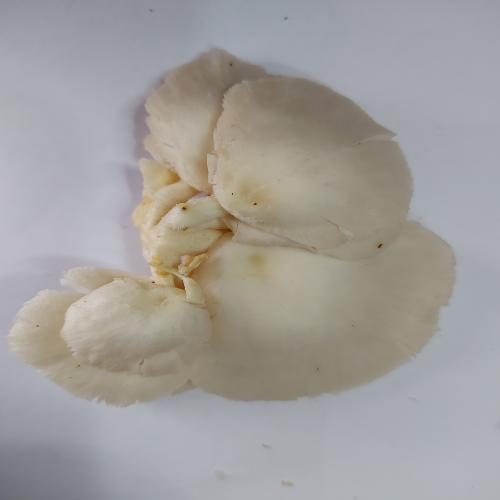Oyster Mushroom: (7, 47, 457, 407)
